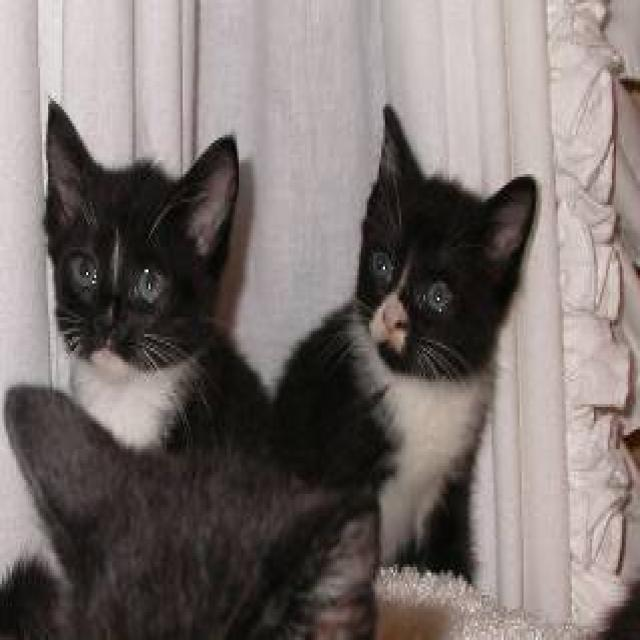cat: (269, 101, 538, 587)
